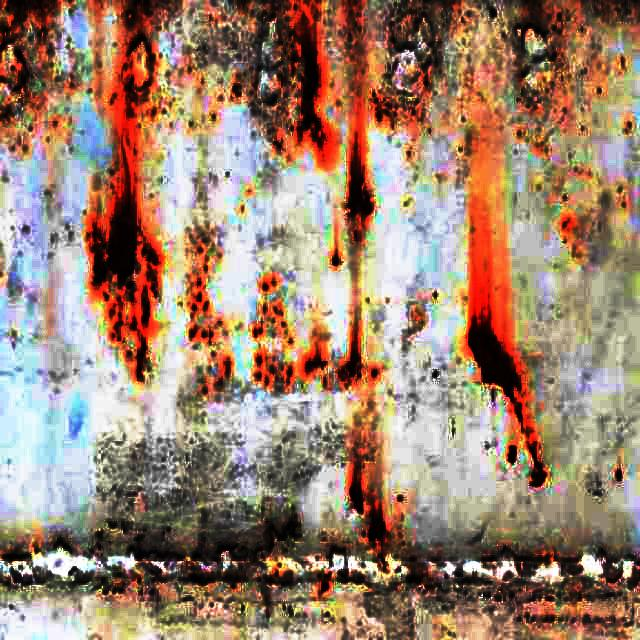Corrosion: (92, 235, 174, 386), (180, 257, 241, 386), (254, 268, 295, 394), (470, 330, 521, 398), (122, 0, 155, 98), (89, 219, 136, 284), (0, 40, 28, 118), (299, 31, 320, 132), (339, 336, 363, 384), (0, 0, 56, 18), (349, 177, 373, 216), (530, 441, 548, 488), (369, 508, 386, 542), (304, 347, 327, 372), (350, 484, 364, 512), (319, 573, 332, 596), (331, 249, 344, 266), (508, 446, 518, 464), (370, 369, 378, 378)
